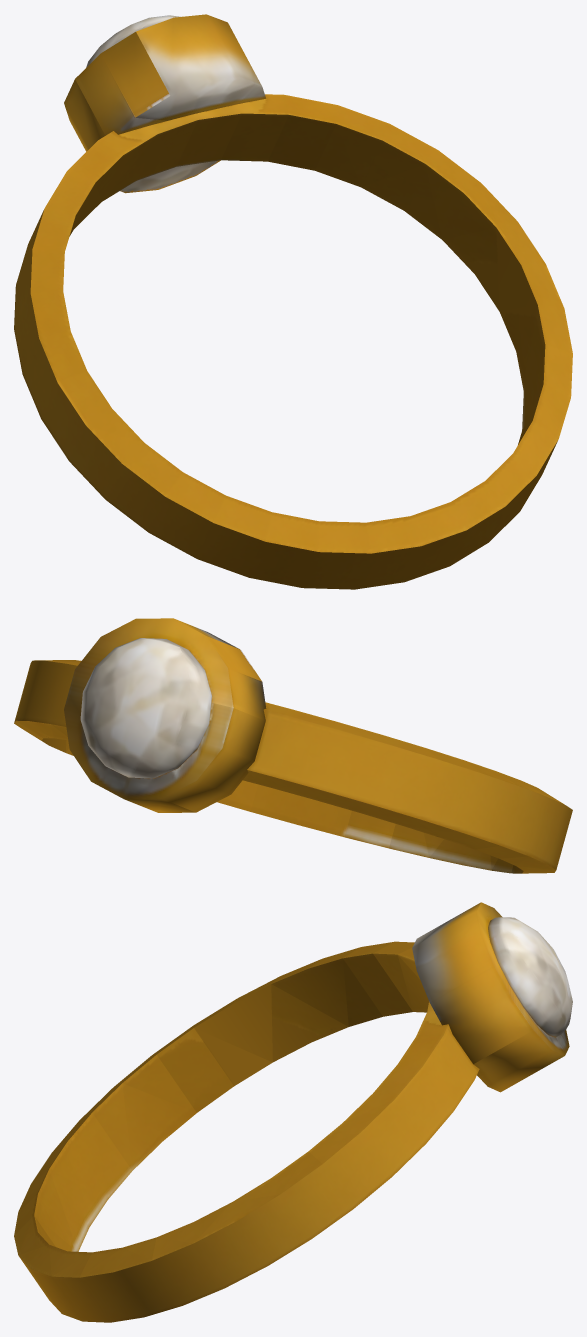
Rendered from item_mm9_10159.glb.
The picture shows the model from 3 angles, top to bottom: view 1: azimuth 30°, elevation 25°; view 2: azimuth 150°, elevation 25°; view 3: azimuth 270°, elevation 25°; orthographic projection. The views are drawn at different scales.
Visible parts, largest first — view 1: d10159; view 2: d10159; view 3: d10159.
Boxes of the visible parts, left/top/right/bottom form: d10159: left=14, top=14, right=572, bottom=589; d10159: left=14, top=618, right=572, bottom=873; d10159: left=14, top=902, right=572, bottom=1322.
Size of the model in its own units: 27.13 by 21 by 28.8.
Materials: 1 (1 with a texture image).
